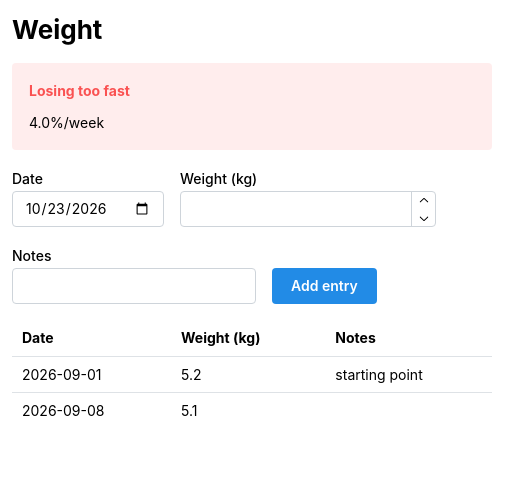
Test: WeightScreen › adds a weigh-in, refreshes the table, and updates the progress banner
Expected: the text "2026-09-01" is shown, top-left (12, 356), bottom-right (171, 393)
Step 1. Type "2026-09-15" into the date field labelled "Date" → [88, 209], box top-left (12, 191), bottom-right (164, 227)
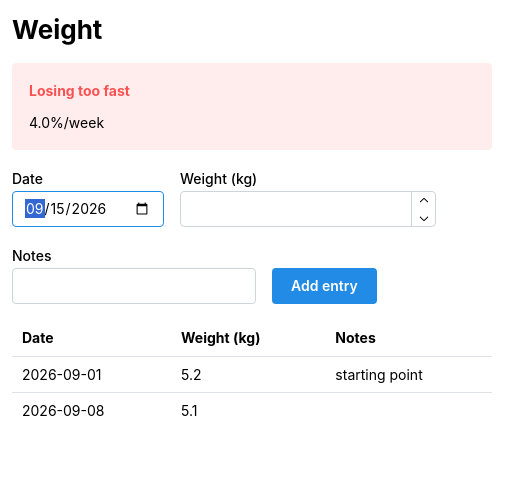
Step 2. Type "5" into the field labelled "Weight (kg)" → [308, 209], box top-left (180, 191), bottom-right (436, 227)
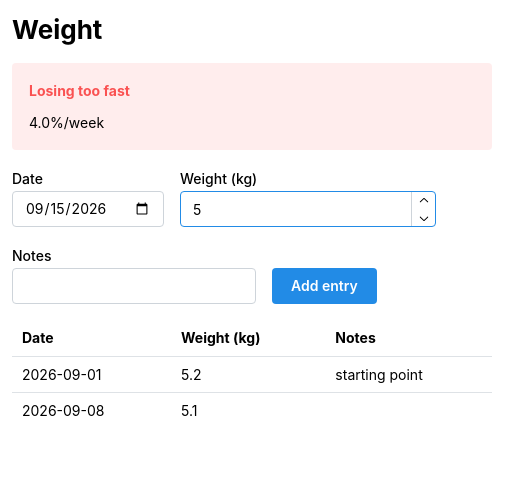
Step 3. Click the button "Add entry" → [324, 286], box top-left (272, 268), bottom-right (377, 304)
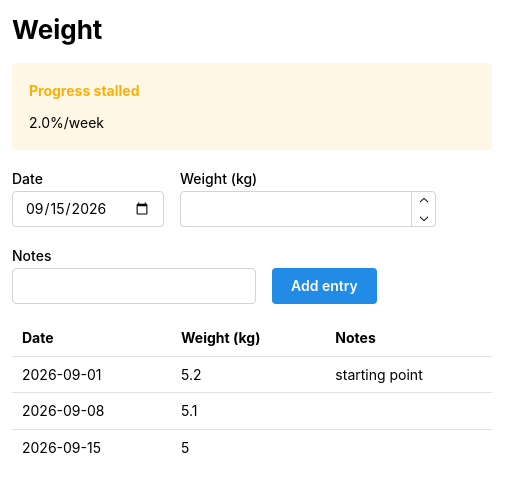
Expected: the text "2026-09-15" is shown, top-left (12, 430), bottom-right (171, 466)
Expected: the text "Progress stalled" is shown, top-left (29, 80), bottom-right (140, 102)
Expected: the field labelled "Weight (kg)" is empty, top-left (180, 191), bottom-right (436, 227)
